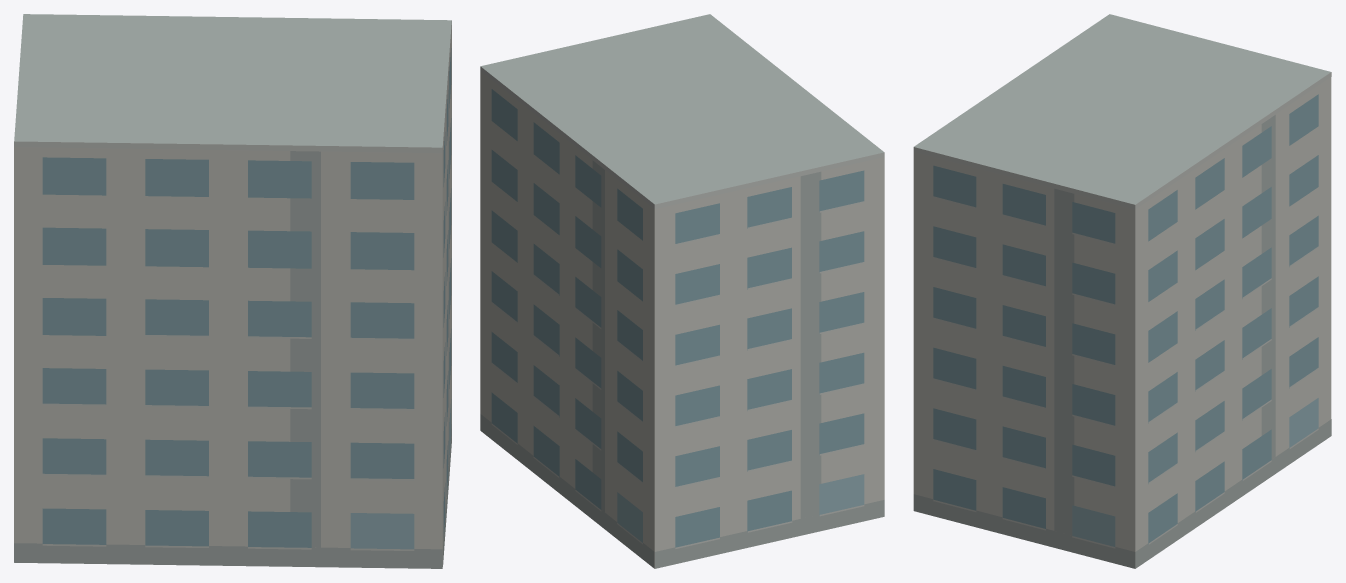
File: survey-upis-32783693.glb
3 views of the same model, side by side, from view 1: azimuth 30°, elevation 25°; view 2: azimuth 150°, elevation 25°; view 3: azimuth 270°, elevation 25° (orthographic). The views are drawn at different scales.
Parts seen in each view (by area): view 1: survey-upis-32783693.tmp; view 2: survey-upis-32783693.tmp; view 3: survey-upis-32783693.tmp.
Part boxes in pixels (bbox=[...]): survey-upis-32783693.tmp: bbox=[14, 14, 451, 568]; survey-upis-32783693.tmp: bbox=[480, 14, 884, 568]; survey-upis-32783693.tmp: bbox=[913, 14, 1331, 568].
Bounding box in the file's own units: 20.47 × 18.2 × 18.94.
